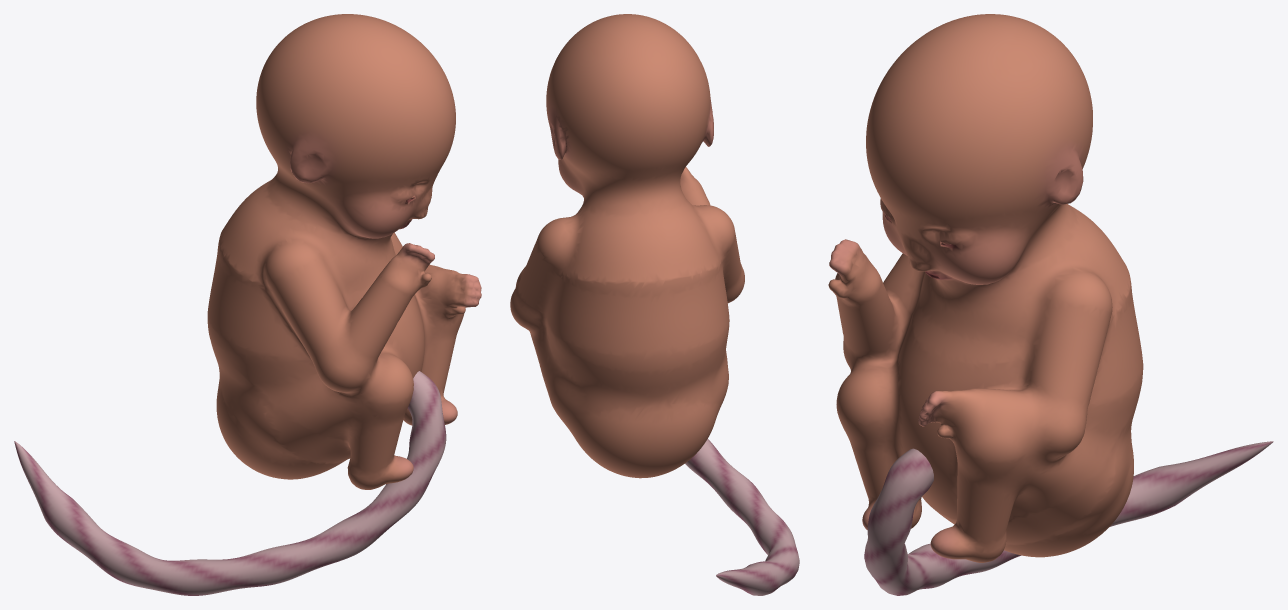
The model's file is week_40.glb.
3 views of the same model, side by side, from view 1: azimuth 30°, elevation 25°; view 2: azimuth 150°, elevation 25°; view 3: azimuth 270°, elevation 25° (orthographic). The views are drawn at different scales.
Visible parts, largest first — view 1: skin, cord; view 2: skin, cord; view 3: skin, cord.
Part boxes in pixels (x1,y1,x2,y2): skin: [207, 14, 481, 489]; cord: [14, 371, 446, 595]; skin: [510, 14, 744, 478]; cord: [685, 439, 799, 595]; skin: [828, 14, 1143, 562]; cord: [864, 441, 1273, 595].
Size of the model in its own units: 1.82 by 2.7 by 1.71.
